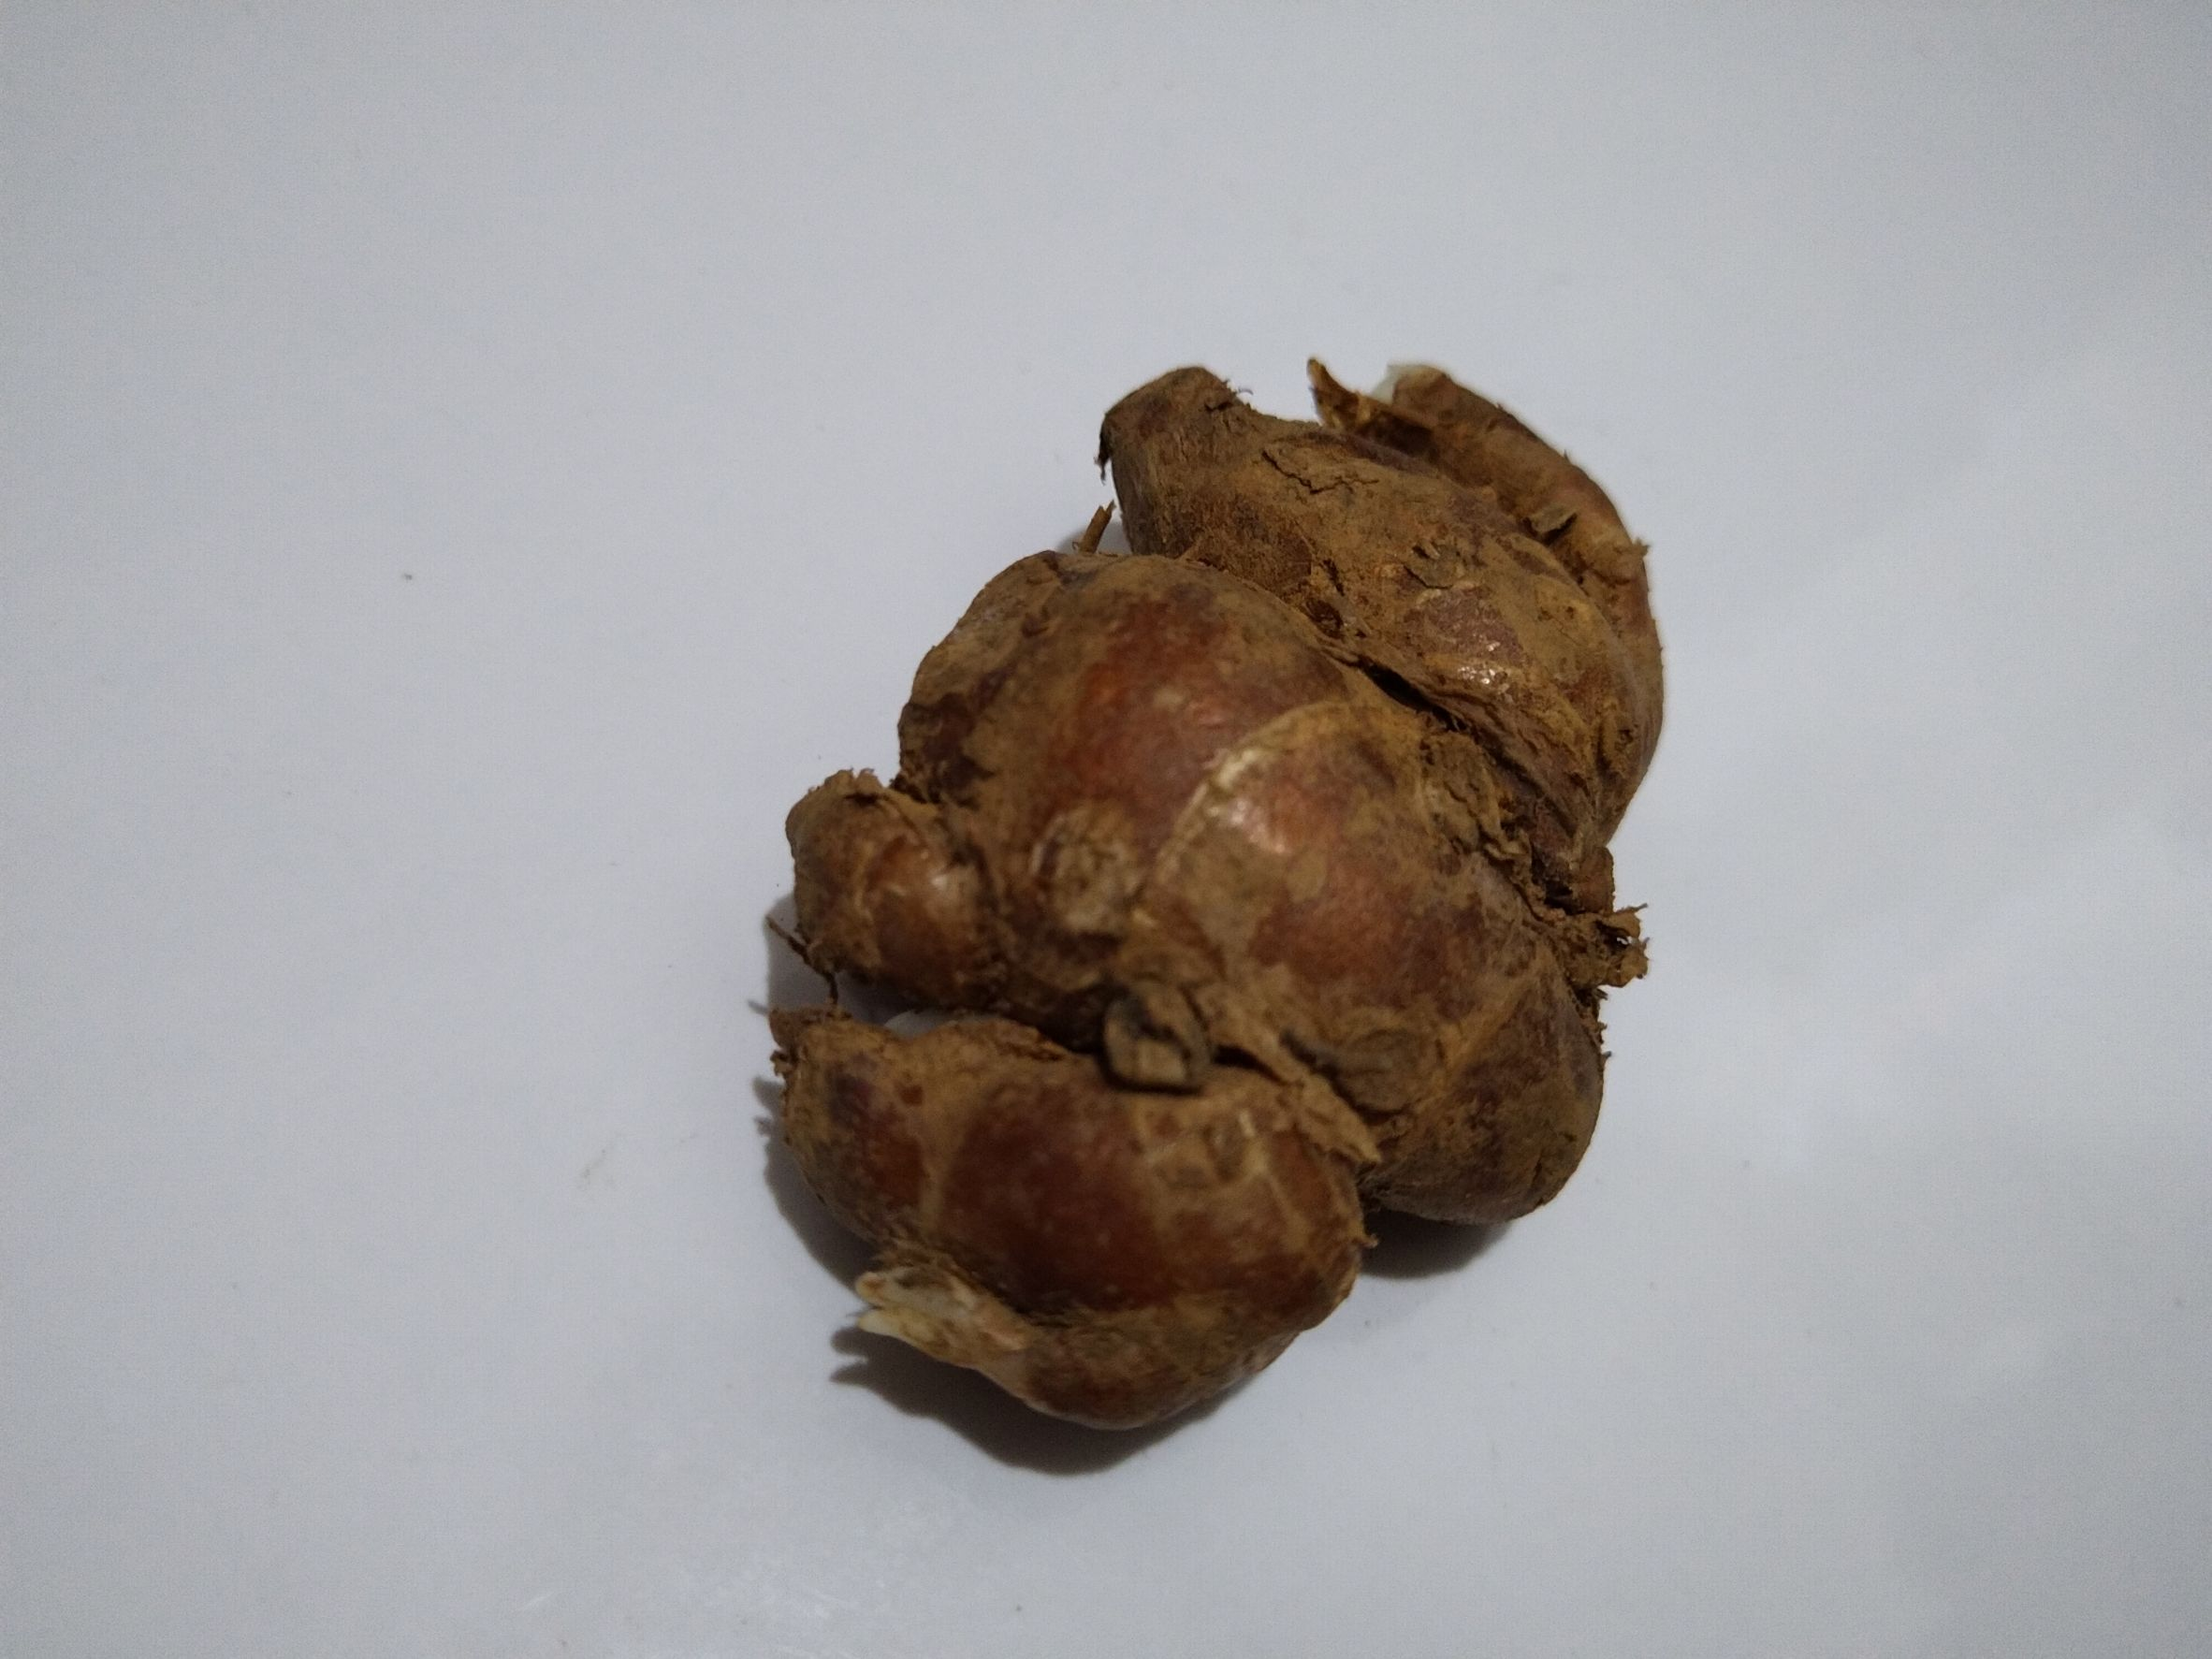Kencur: (758, 355, 1656, 1460)
